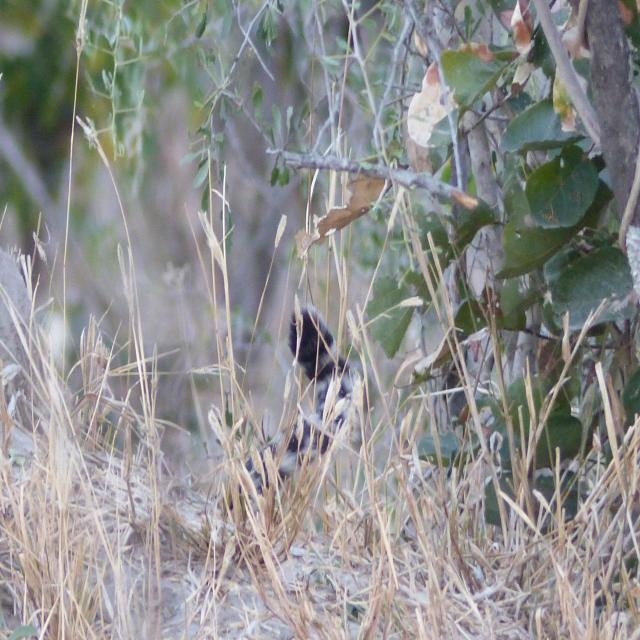Leopard: (239, 296, 388, 521)
